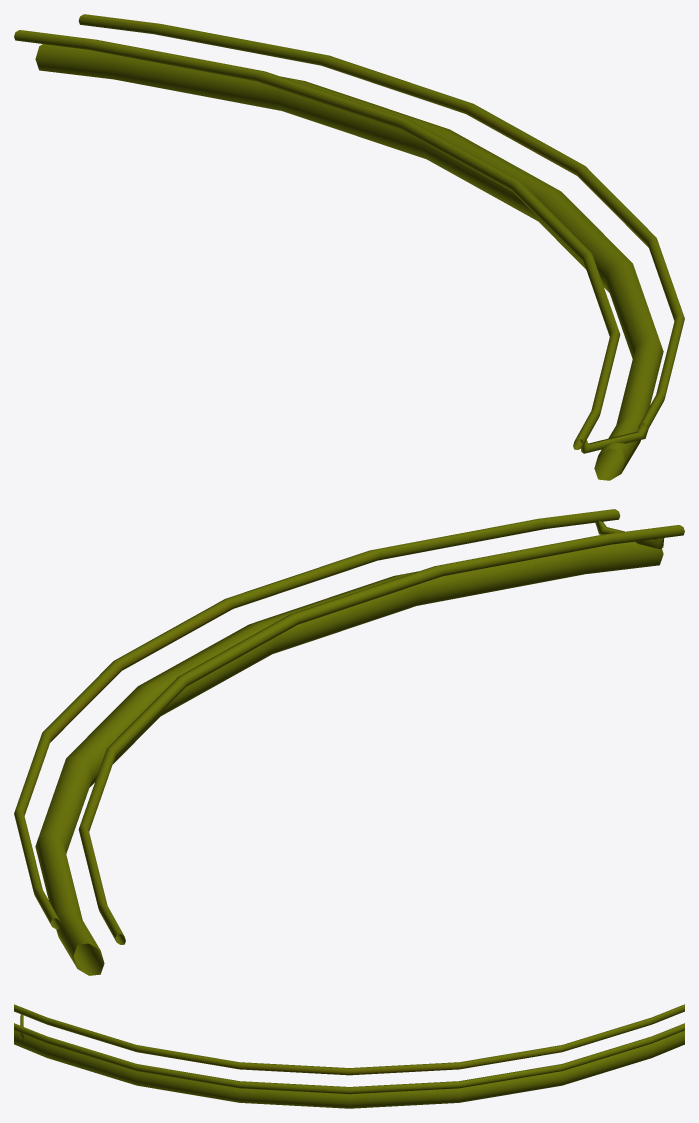
3 views of the same model, one above another, from view 1: azimuth 30°, elevation 25°; view 2: azimuth 150°, elevation 25°; view 3: azimuth 270°, elevation 25° (orthographic). The views are drawn at different scales.
Visible parts, largest first — view 1: Mesh; view 2: Mesh; view 3: Mesh.
Part boxes in pixels (bbox=[...]): Mesh: bbox=[14, 14, 684, 480]; Mesh: bbox=[14, 509, 684, 975]; Mesh: bbox=[14, 1004, 684, 1108].
Bounding box in the file's own units: 258 × 41.58 × 851.
